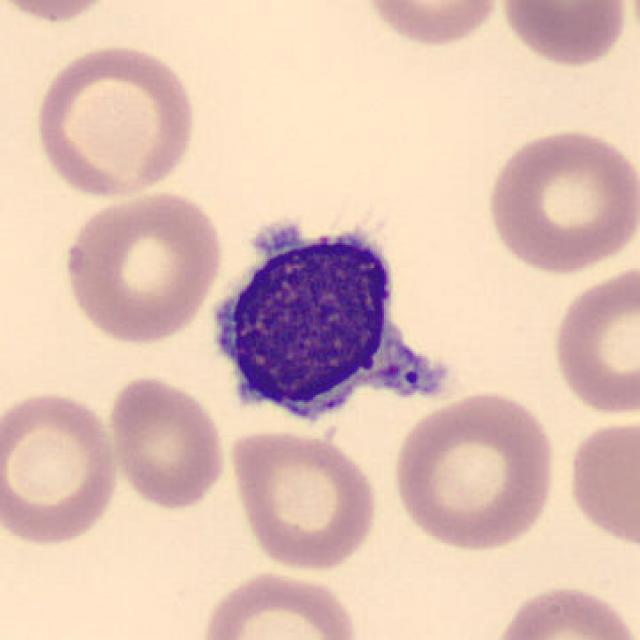Lymphocyte: (192, 203, 459, 437)
RBC: (388, 388, 560, 555), (28, 39, 201, 201), (59, 185, 228, 347), (480, 123, 638, 277), (224, 425, 382, 573), (0, 386, 123, 548), (103, 371, 231, 512), (548, 261, 638, 418), (195, 567, 362, 640), (562, 414, 638, 554), (494, 0, 633, 69), (489, 580, 638, 640), (359, 0, 503, 49), (0, 0, 126, 26)
